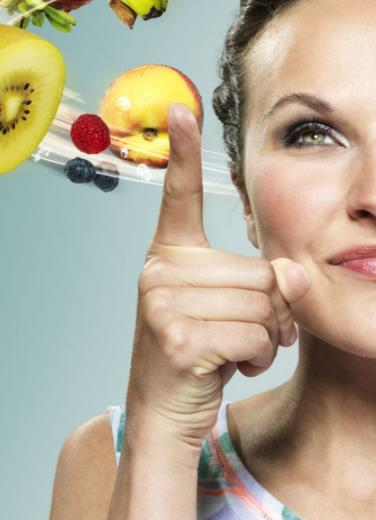up: (119, 83, 316, 430)
